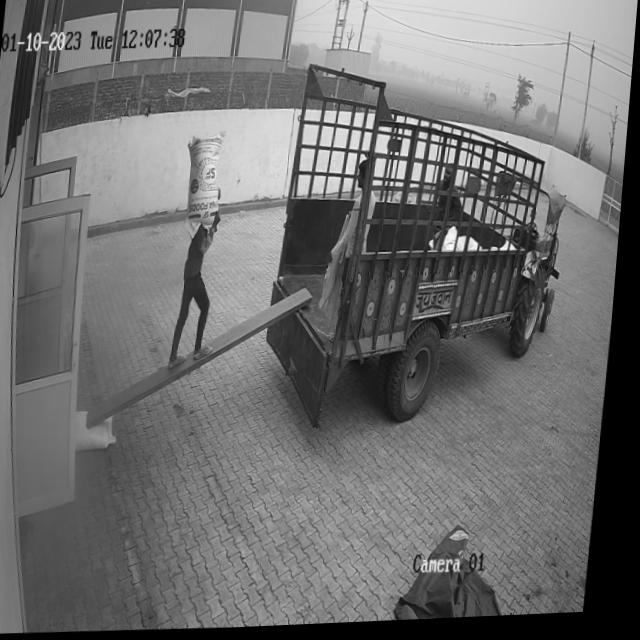sack: (181, 132, 228, 242), (80, 408, 125, 452)
